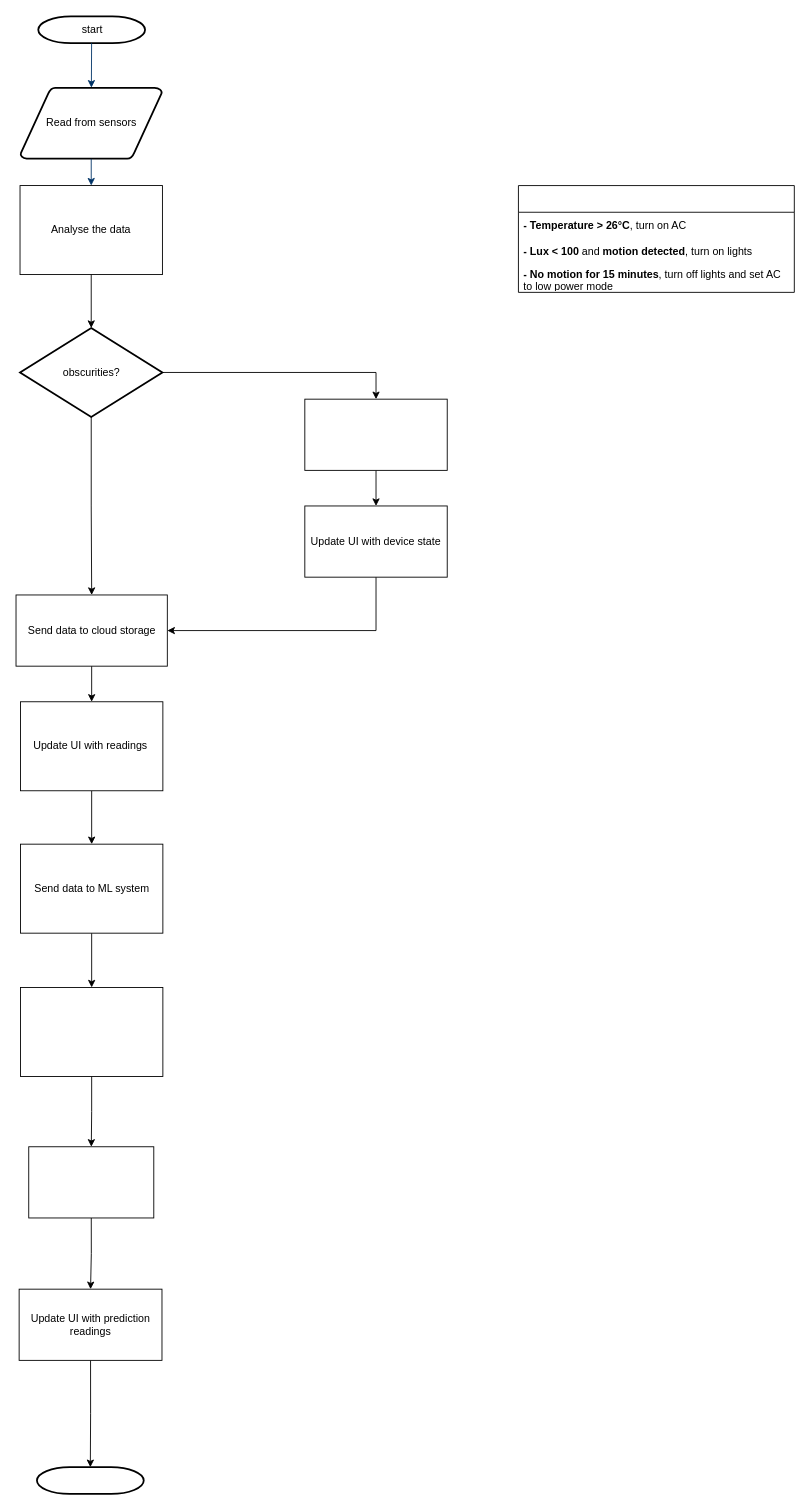
This 810x1509 diagram has some shape labels left out. The shapes that lost their labels are listed below. From the top down, each one's box as (x1, y1, x2, y2) in pixels, then its label:
(518, 185, 794, 292): Obscurities
(304, 398, 447, 470): Send a control command to device/devices
(20, 987, 163, 1076): Calculate prediction results based on data
(28, 1146, 154, 1218): Update Database with prediction report
(36, 1466, 144, 1494): End
